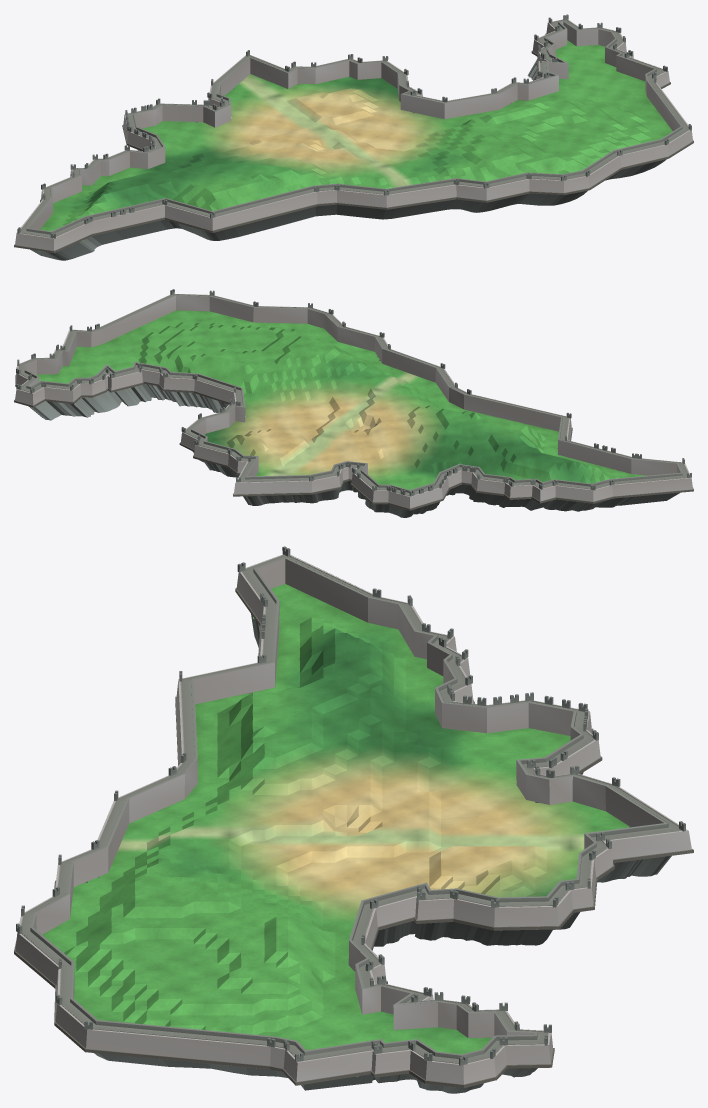
The picture shows the model from 3 angles, top to bottom: view 1: azimuth 30°, elevation 25°; view 2: azimuth 150°, elevation 25°; view 3: azimuth 270°, elevation 25°; orthographic projection. The views are drawn at different scales.
Parts seen in each view (by area): view 1: ground_c75491c8; view 2: ground_c75491c8; view 3: ground_c75491c8.
Boxes of the visible parts, <box> form: ground_c75491c8: <box>14,14,693,260</box>; ground_c75491c8: <box>14,289,693,517</box>; ground_c75491c8: <box>14,546,693,1093</box>.
Size of the model in its own units: 155 by 8.11 by 86.66.
Materials: 3 (1 with a texture image).
